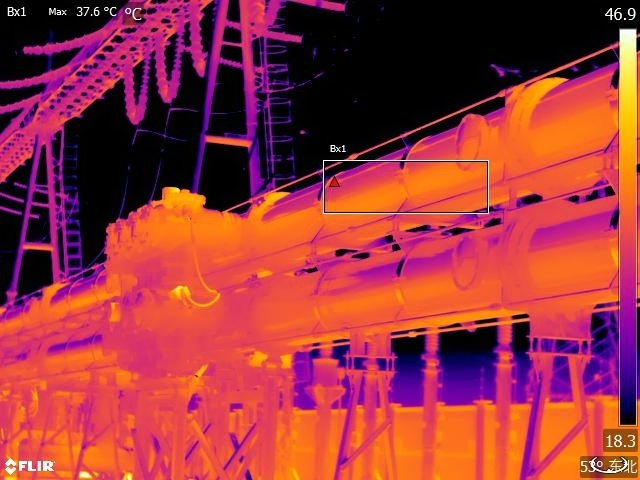insulator: (21, 26, 117, 57), (1, 62, 74, 93), (152, 30, 172, 100), (136, 37, 152, 124), (170, 12, 184, 101), (188, 8, 207, 73), (1, 88, 47, 113), (120, 56, 137, 123), (260, 1, 284, 29)
